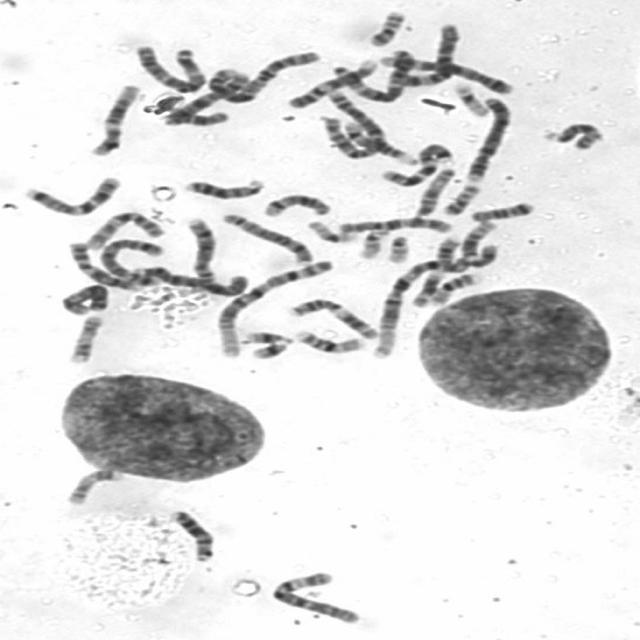A1: (366, 233, 480, 361), (210, 255, 338, 360)
A2: (201, 46, 324, 104), (314, 87, 387, 159)
A3: (327, 45, 414, 105), (128, 41, 210, 94)
B4: (460, 92, 516, 183), (128, 262, 250, 297)
B5: (376, 49, 516, 96), (94, 235, 167, 288)
C10: (79, 206, 167, 252), (334, 213, 454, 236)
C11: (284, 294, 382, 340), (409, 232, 464, 308)
C12: (84, 80, 142, 157), (455, 216, 500, 269)
C6: (265, 568, 365, 626), (384, 21, 462, 88)
C7: (19, 172, 124, 217), (375, 139, 456, 188)
C8: (216, 209, 316, 265), (182, 212, 220, 286)
C9: (282, 55, 379, 110), (64, 239, 146, 291)
D13: (164, 506, 218, 563), (179, 173, 267, 200)
D14: (337, 118, 420, 166), (258, 190, 334, 218)
D15: (409, 164, 458, 218), (538, 118, 606, 152)
E16: (289, 326, 368, 354), (424, 270, 483, 306)
E17: (60, 464, 124, 506), (63, 311, 106, 365)
E18: (465, 198, 538, 223), (159, 105, 232, 127)
F19: (449, 78, 492, 117), (302, 217, 361, 244)
F20: (362, 6, 410, 48), (437, 180, 484, 217)
G21: (245, 335, 294, 360), (239, 326, 297, 346)
G22: (353, 225, 392, 260), (382, 232, 413, 264)
X: (158, 66, 252, 127), (56, 279, 113, 317)
